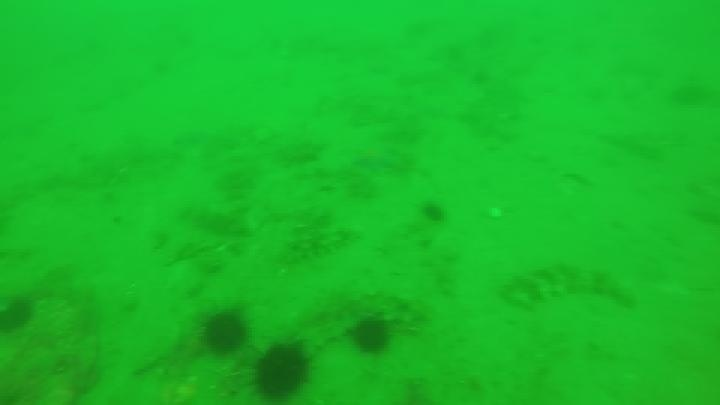echinus: (250, 341, 313, 401), (199, 308, 250, 356), (349, 316, 393, 357), (0, 295, 37, 335), (419, 199, 448, 225)
holothurian: (501, 260, 639, 311), (308, 286, 430, 330), (277, 221, 360, 265)
starfish: (349, 143, 401, 175)
